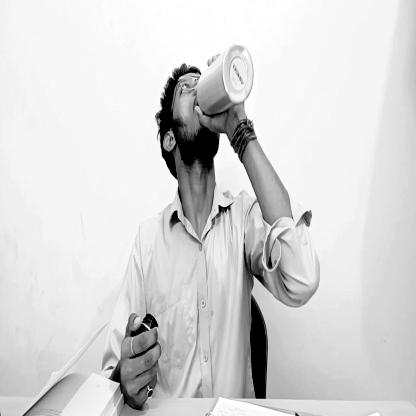Distracted: (165, 70, 217, 170)
